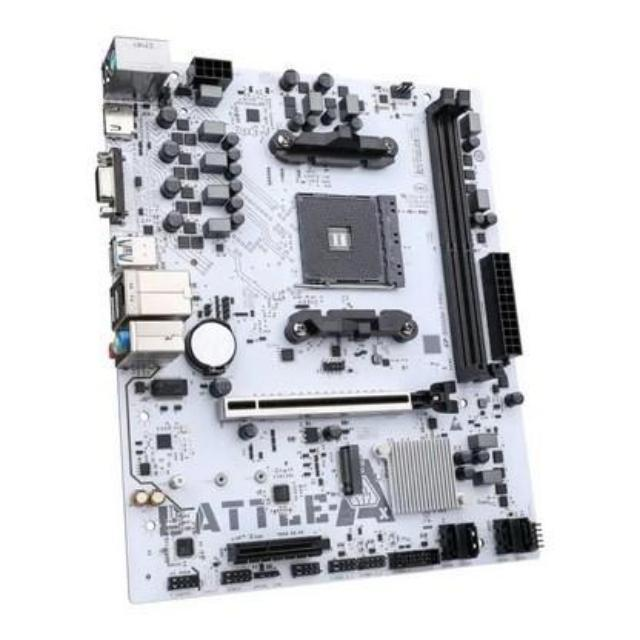Mainboard: (93, 26, 544, 604)
